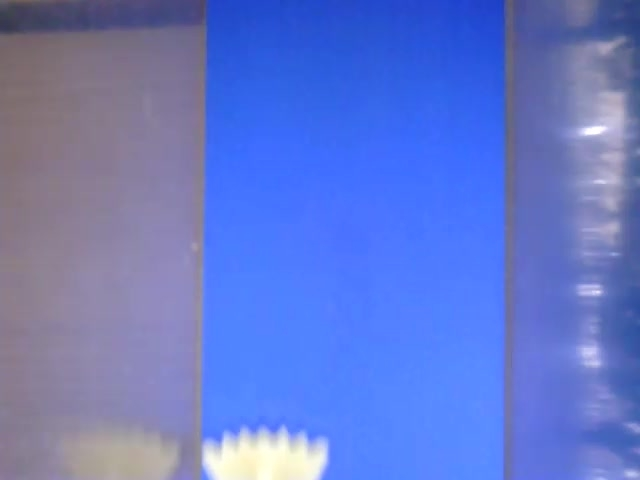farfalle: (202, 427, 329, 480)
